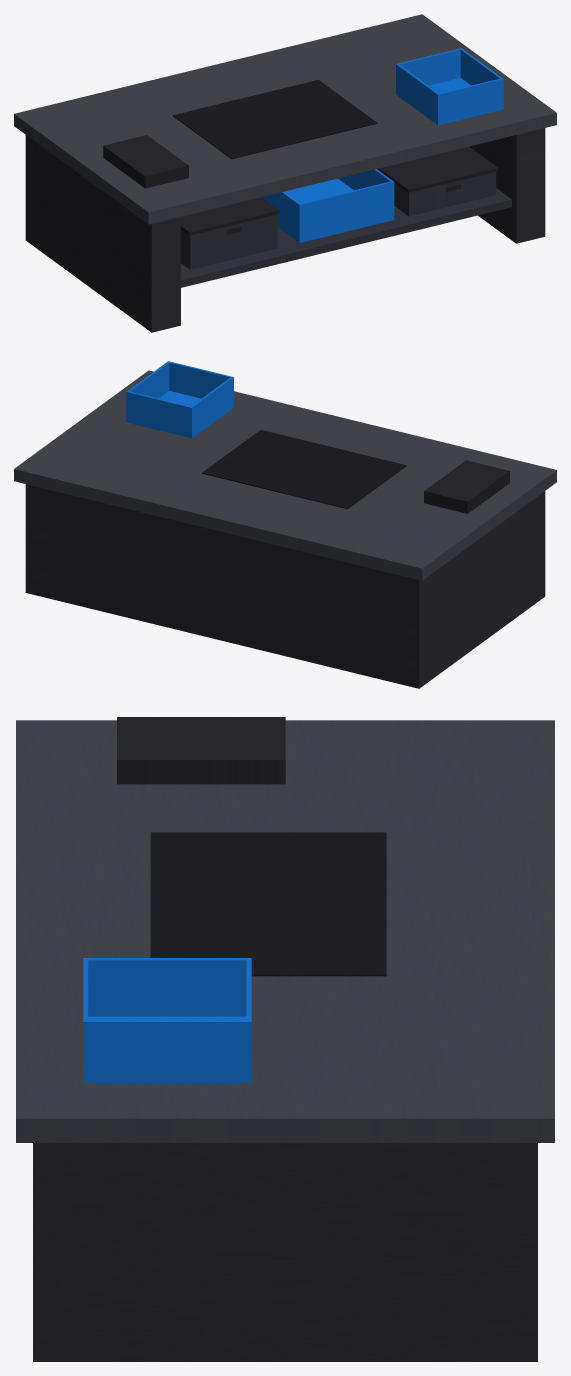
Rendered from mesa de trabajo.glb.
The picture shows the model from 3 angles, top to bottom: view 1: azimuth 30°, elevation 25°; view 2: azimuth 150°, elevation 25°; view 3: azimuth 270°, elevation 25°; orthographic projection. The views are drawn at different scales.
Parts seen in each view (by area): view 1: Mesa_Tapa, Mesa_LadoIzq, Mesa_Mat, Mesa_Estante, Mesa_LadoDer, Mesa_CajaAzul_F, Mesa_CajaN1_Cuerpo, Mesa_CajaN2_Tapa, Mesa_Equipo, Mesa_CajaN2_Cuerpo, Mesa_CrateAzul_F, Mesa_CajaN1_Tapa (+7 smaller); view 2: Mesa_Tapa, Mesa_Respaldo, Mesa_LadoIzq, Mesa_Mat, Mesa_LadoDer, Mesa_Equipo, Mesa_CrateAzul_B, Mesa_CrateAzul_F, Mesa_CrateAzul_I, Mesa_CrateAzul_D, Mesa_CrateAzul_Fondo; view 3: Mesa_Tapa, Mesa_LadoDer, Mesa_Mat, Mesa_Equipo, Mesa_CrateAzul_D, Mesa_CrateAzul_I, Mesa_CrateAzul_Fondo.
Part boxes in pixels (<box>): Mesa_Tapa: <box>14,14,556,224</box>; Mesa_LadoIzq: <box>25,135,180,332</box>; Mesa_Mat: <box>172,79,377,159</box>; Mesa_Estante: <box>181,188,511,287</box>; Mesa_LadoDer: <box>469,128,545,243</box>; Mesa_CajaAzul_F: <box>298,181,394,242</box>; Mesa_CajaN1_Cuerpo: <box>181,214,277,269</box>; Mesa_CajaN2_Tapa: <box>377,146,498,192</box>; Mesa_Equipo: <box>103,135,188,188</box>; Mesa_CajaN2_Cuerpo: <box>394,172,496,216</box>; Mesa_CrateAzul_F: <box>436,78,503,124</box>; Mesa_CajaN1_Tapa: <box>181,197,279,235</box>; Mesa_Tapa: <box>14,370,556,580</box>; Mesa_Respaldo: <box>54,491,389,681</box>; Mesa_LadoIzq: <box>390,491,545,688</box>; Mesa_Mat: <box>202,430,406,509</box>; Mesa_LadoDer: <box>25,484,54,599</box>; Mesa_Equipo: <box>424,460,509,513</box>; Mesa_CrateAzul_B: <box>126,391,192,437</box>; Mesa_CrateAzul_F: <box>167,361,233,407</box>; Mesa_CrateAzul_I: <box>191,377,232,434</box>; Mesa_CrateAzul_D: <box>128,362,169,398</box>; Mesa_CrateAzul_Fondo: <box>126,391,233,438</box>; Mesa_Tapa: <box>16,720,554,1142</box>; Mesa_LadoDer: <box>33,1143,537,1361</box>; Mesa_Mat: <box>150,832,386,976</box>; Mesa_Equipo: <box>117,717,285,784</box>; Mesa_CrateAzul_D: <box>88,1020,246,1082</box>; Mesa_CrateAzul_I: <box>88,958,246,1016</box>; Mesa_CrateAzul_Fondo: <box>83,1016,251,1082</box>.
Size of the model in its own units: 280 by 102 by 160.
6 materials, 6 textured.
